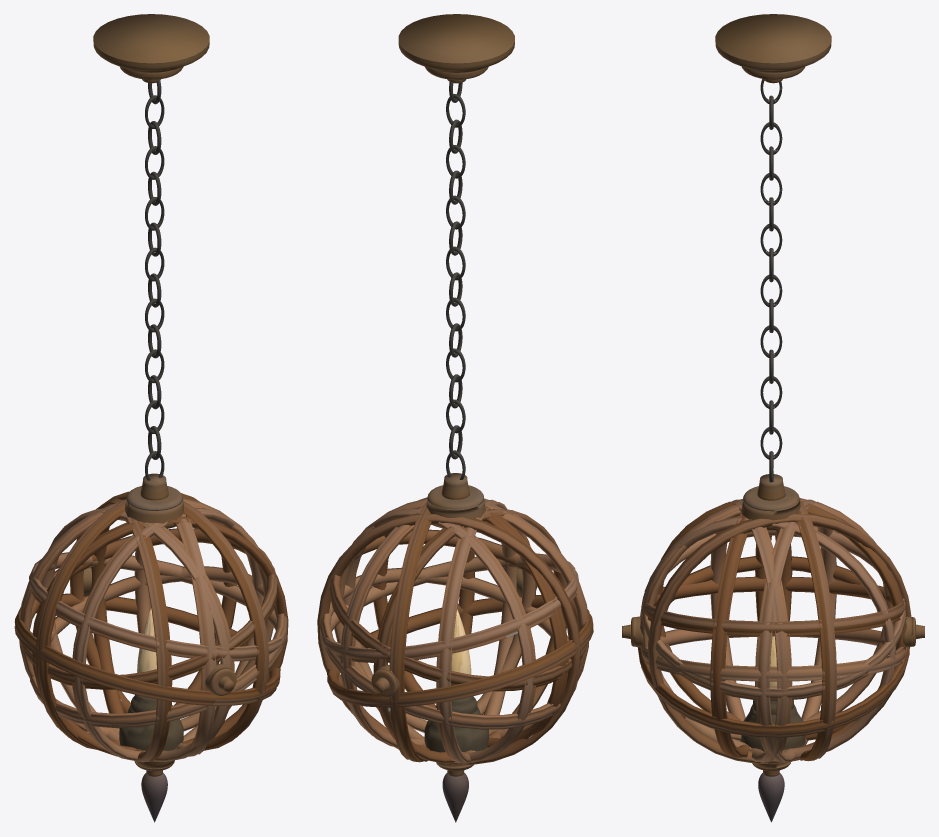
The model's file is Lampara.obj.
The picture shows the model from 3 angles, left to right: view 1: azimuth 30°, elevation 25°; view 2: azimuth 150°, elevation 25°; view 3: azimuth 270°, elevation 25°; orthographic projection.
Visible parts, largest first — view 1: Torus015, Cylinder019, Torus009, Torus011, Torus014, Torus016, Torus005, Torus007, Torus010, Torus013, Torus012, Torus004 (+7 smaller); view 2: Torus007, Torus015, Cylinder019, Torus014, Torus016, Torus010, Torus008, Torus011, Torus012, Torus013, Torus009, Torus004 (+6 smaller); view 3: Torus013, Cylinder019, Torus011, Torus015, Torus016, Torus008, Torus007, Torus005, Torus012, Torus014, Torus004, Torus010 (+5 smaller).
Boxes of the visible parts, x1=… form: Torus015: x1=14, y1=593, x2=280, y2=705; Cylinder019: x1=93, y1=14, x2=209, y2=72; Torus009: x1=90, y1=499, x2=172, y2=762; Torus011: x1=70, y1=491, x2=269, y2=750; Torus014: x1=29, y1=552, x2=287, y2=661; Torus016: x1=30, y1=566, x2=287, y2=727; Torus005: x1=72, y1=508, x2=263, y2=762; Torus007: x1=35, y1=493, x2=236, y2=749; Torus010: x1=41, y1=508, x2=234, y2=761; Torus013: x1=20, y1=528, x2=277, y2=689; Torus012: x1=134, y1=514, x2=216, y2=756; Torus004: x1=32, y1=516, x2=288, y2=756; Torus007: x1=317, y1=513, x2=580, y2=764; Torus015: x1=327, y1=595, x2=593, y2=707; Cylinder019: x1=398, y1=14, x2=514, y2=72; Torus014: x1=320, y1=553, x2=578, y2=662; Torus016: x1=320, y1=567, x2=577, y2=729; Torus010: x1=436, y1=499, x2=517, y2=763; Torus008: x1=343, y1=508, x2=535, y2=763; Torus011: x1=389, y1=501, x2=474, y2=762; Torus012: x1=340, y1=498, x2=536, y2=747; Torus013: x1=329, y1=529, x2=587, y2=691; Torus009: x1=373, y1=509, x2=566, y2=763; Torus004: x1=373, y1=497, x2=568, y2=747; Torus013: x1=641, y1=576, x2=905, y2=636; Cylinder019: x1=715, y1=14, x2=831, y2=72; Torus011: x1=648, y1=513, x2=911, y2=763; Torus015: x1=637, y1=556, x2=909, y2=737; Torus016: x1=642, y1=629, x2=905, y2=681; Torus008: x1=755, y1=499, x2=836, y2=762; Torus007: x1=755, y1=498, x2=836, y2=761; Torus005: x1=710, y1=499, x2=792, y2=762; Torus012: x1=640, y1=516, x2=896, y2=759; Torus014: x1=641, y1=525, x2=905, y2=700; Torus004: x1=710, y1=512, x2=792, y2=757; Torus010: x1=640, y1=498, x2=892, y2=740.
Size of the model in its own units: 21.56 by 68.3 by 23.93.
7 materials, 7 textured.
